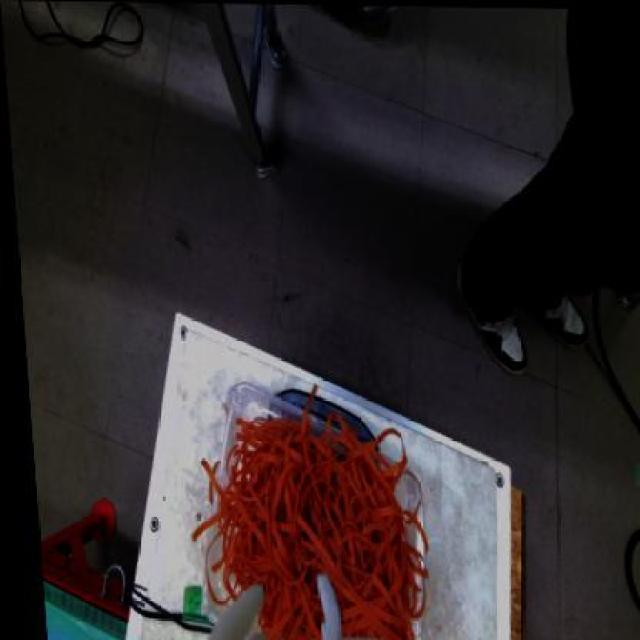Pasta: (198, 403, 422, 639)
